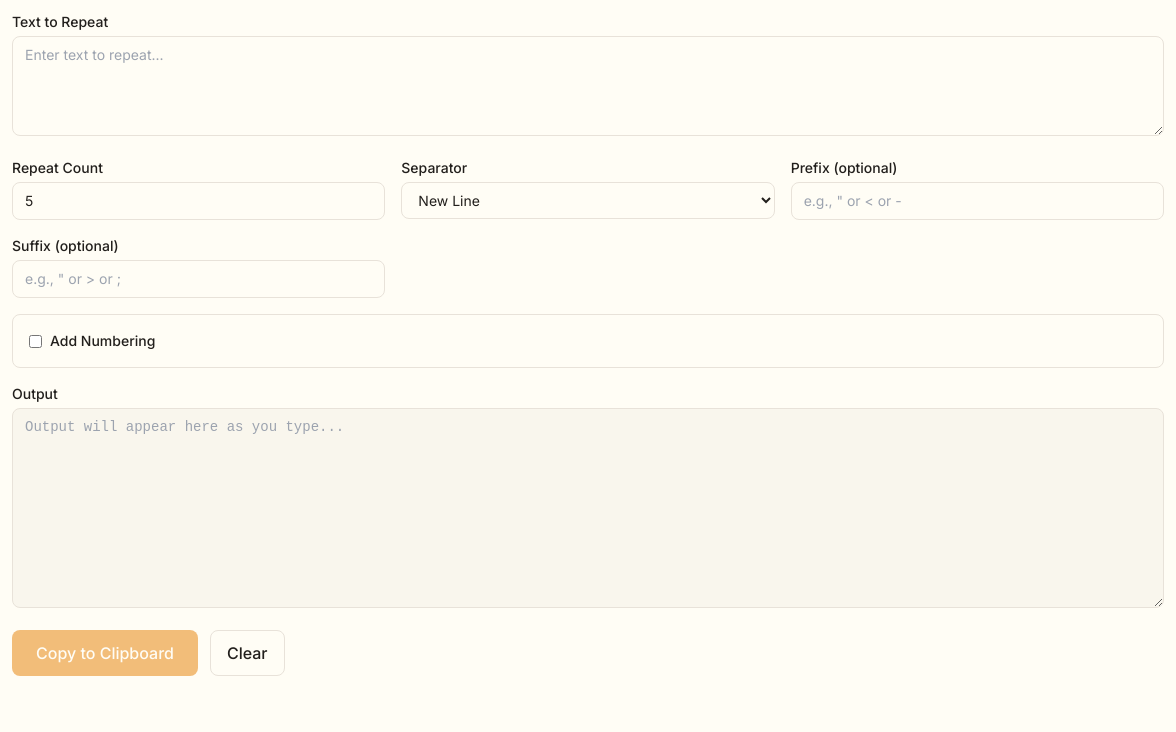
TextRepeater › uses comma separator
Type "hi" into the text box labelled "text to repeat". click: [588, 86]
box: 12,36 -> 1164,136
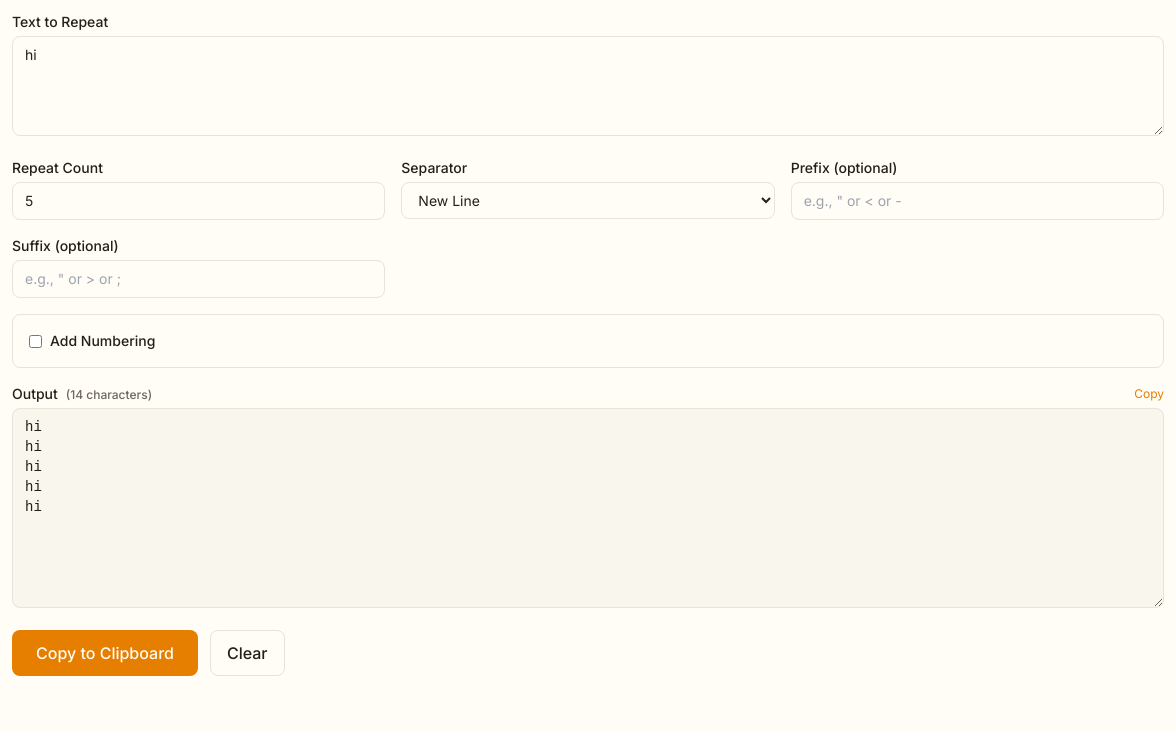
Select "Comma" in the dropdown named "Separator type". click: [588, 200]
box: 401,182 -> 775,219
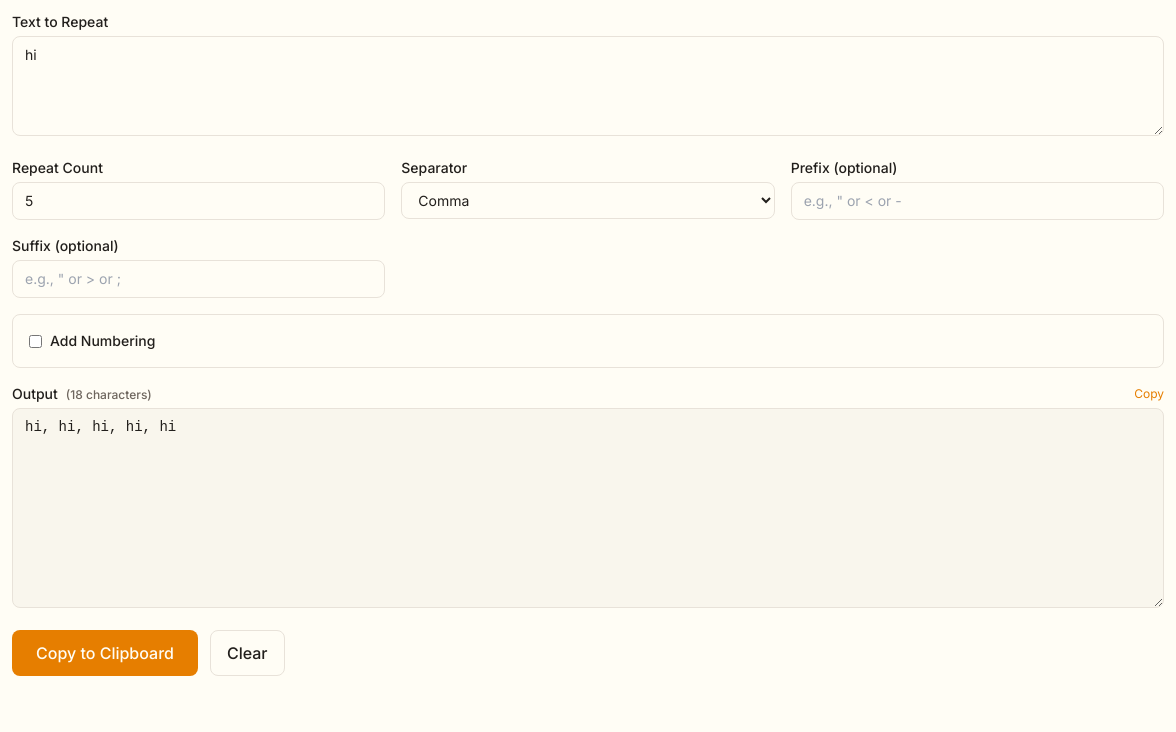
Expected: the text box named "Repeated text output" holds "hi, hi, hi, hi, hi", 12,408 -> 1164,608
